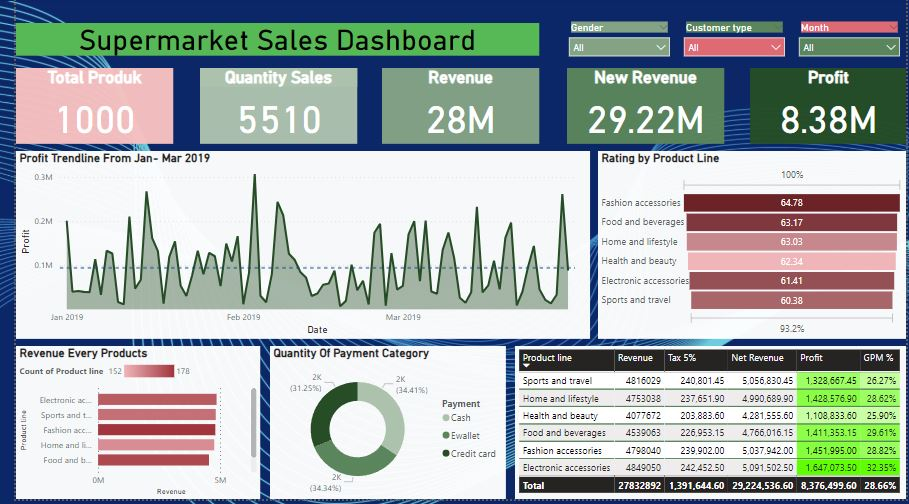

The dashboard page shown, as its layout file describes it:
{"tool":"powerbi","page":{"name":"Halaman 1","canvas":[1280,720],"ordinal":0},"visuals":[{"type":"tableEx","fields":{"Values":["supermarket_sales.Product line","supermarket_sales.Revenue","supermarket_sales.Tax 5%","supermarket_sales.Net Revenue","supermarket_sales.Profit","supermarket_sales.GPM %"]},"box":[717.3,500.6,562.7,220.1],"z":0},{"type":"donutChart","title":"Quantity Of Payment Category ","fields":{"Y":["Sum(supermarket_sales.Quantity)"],"Category":["supermarket_sales.Payment"]},"box":[365,500.1,339.2,219.9],"z":1000},{"type":"barChart","title":"Revenue Every Products","fields":{"Category":["supermarket_sales.Product line"],"Y":["supermarket_sales.Revenue"]},"box":[0,500.1,350.7,219.9],"z":2000},{"type":"areaChart","title":"Profit Trendline From Jan- Mar 2019","fields":{"Y":["supermarket_sales.Profit"],"Category":["supermarket_sales.Date"]},"box":[0,219.9,824.9,270.2],"z":3000},{"type":"funnel","title":"Rating by Product Line","fields":{"Category":["supermarket_sales.Product line"],"Y":["Avg(supermarket_sales.Rating)"]},"box":[836.4,219.9,444.1,270.2],"z":4000},{"type":"card","title":"Total Produk","fields":{"Values":["CountNonNull(supermarket_sales.Product line)"]},"box":[0,100.6,225.6,109.2],"z":5000},{"type":"card","title":"Quantity Sales","fields":{"Values":["Sum(supermarket_sales.Quantity)"]},"box":[264.4,100.6,225.6,109.2],"z":6000},{"type":"card","title":"Revenue","fields":{"Values":["supermarket_sales.Revenue"]},"box":[526,100.6,225.6,109.2],"z":7000},{"type":"card","title":"New Revenue","fields":{"Values":["supermarket_sales.Net Revenue"]},"box":[791.9,100.6,225.6,109.2],"z":8000},{"type":"card","title":"Profit","fields":{"Values":["supermarket_sales.Profit"]},"box":[1054.9,100.6,225.6,109.2],"z":9000},{"type":"slicer","fields":{"Values":["supermarket_sales.Date.Variasi.Date Hierarchy.Month"]},"box":[1115.2,28.7,165.3,57.5],"z":10000},{"type":"slicer","fields":{"Values":["supermarket_sales.Gender"]},"box":[784.7,28.7,165.3,57.5],"z":11000},{"type":"slicer","fields":{"Values":["supermarket_sales.Customer type"]},"box":[949.9,28.7,165.3,57.5],"z":12000},{"type":"textbox","title":"Supermarket Sales Dashboard","box":[0,35.9,751.6,50.3],"z":13000}]}

Visuals, with their boxes in screenshot pixels (x1, y1, x2, y2), scaled from the page's 1280x720 canvas onto the 909x504 screenshot:
tableEx - supermarket_sales.Product line x supermarket_sales.Revenue: <region>509, 350, 908, 503</region>
"Quantity Of Payment Category " donutChart: <region>259, 350, 500, 503</region>
"Revenue Every Products" barChart: <region>0, 350, 249, 503</region>
"Profit Trendline From Jan- Mar 2019" areaChart: <region>0, 154, 586, 343</region>
"Rating by Product Line" funnel: <region>594, 154, 908, 343</region>
"Total Produk" card: <region>0, 70, 160, 147</region>
"Quantity Sales" card: <region>188, 70, 348, 147</region>
"Revenue" card: <region>374, 70, 534, 147</region>
"New Revenue" card: <region>562, 70, 723, 147</region>
"Profit" card: <region>749, 70, 908, 147</region>
slicer - supermarket_sales.Date.Variasi.Date Hierarchy.Month: <region>792, 20, 908, 60</region>
slicer - supermarket_sales.Gender: <region>557, 20, 675, 60</region>
slicer - supermarket_sales.Customer type: <region>675, 20, 792, 60</region>
"Supermarket Sales Dashboard" textbox: <region>0, 25, 534, 60</region>
